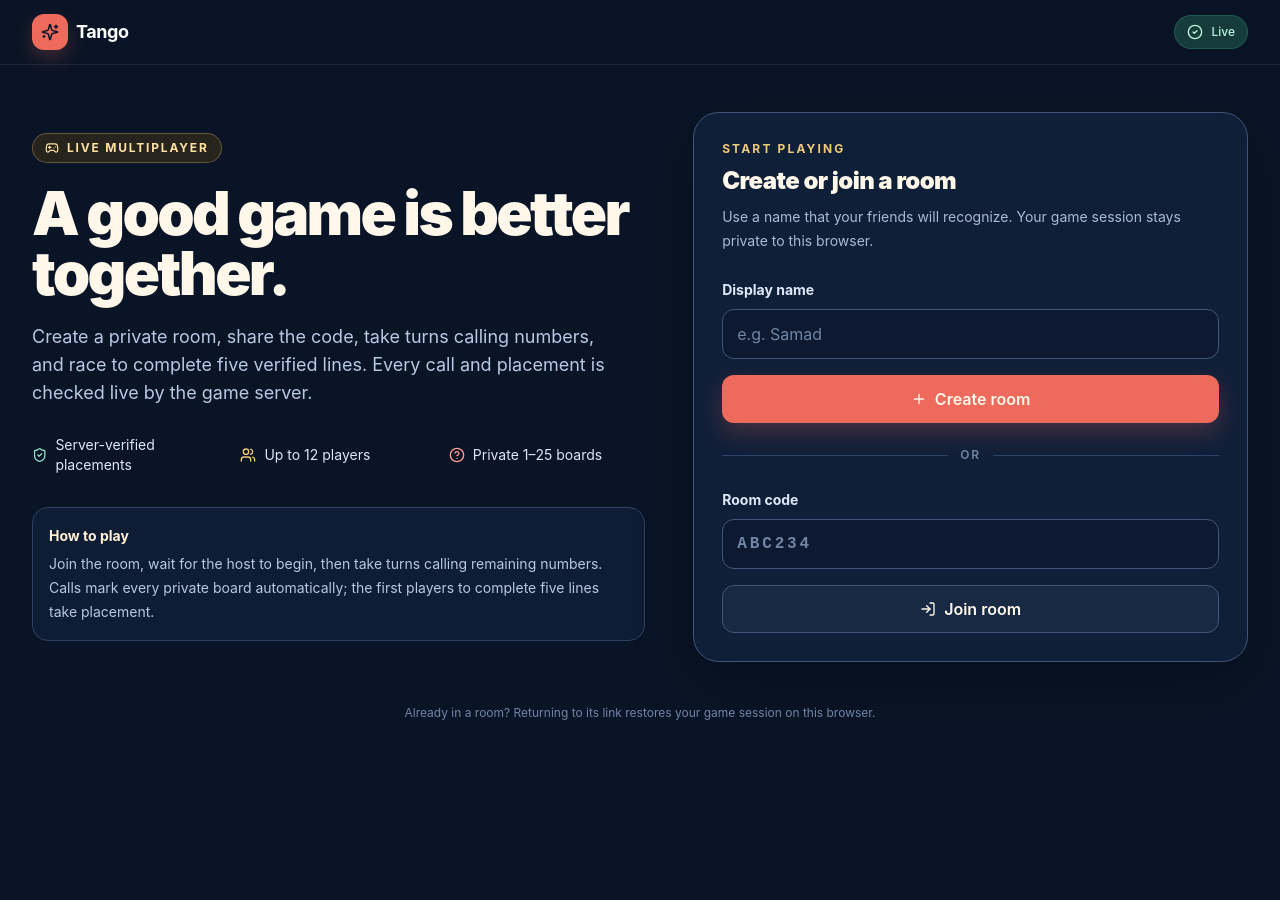
HomePage › shows an accessible name validation message
Click the button "Create room" at (971, 399), box [722,375,1219,423]
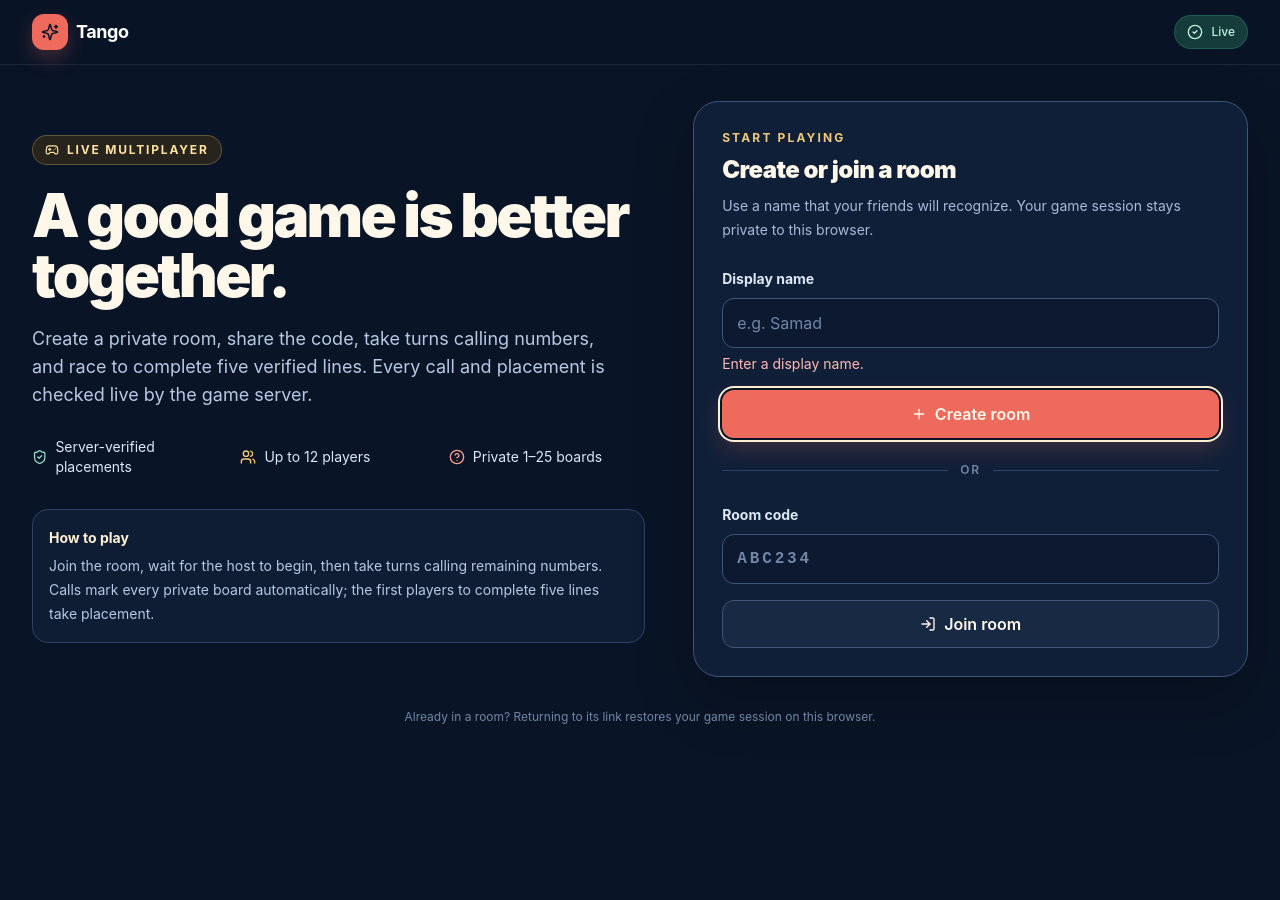
Expected: the message "Enter a display name." is shown, [722,355,864,372]
